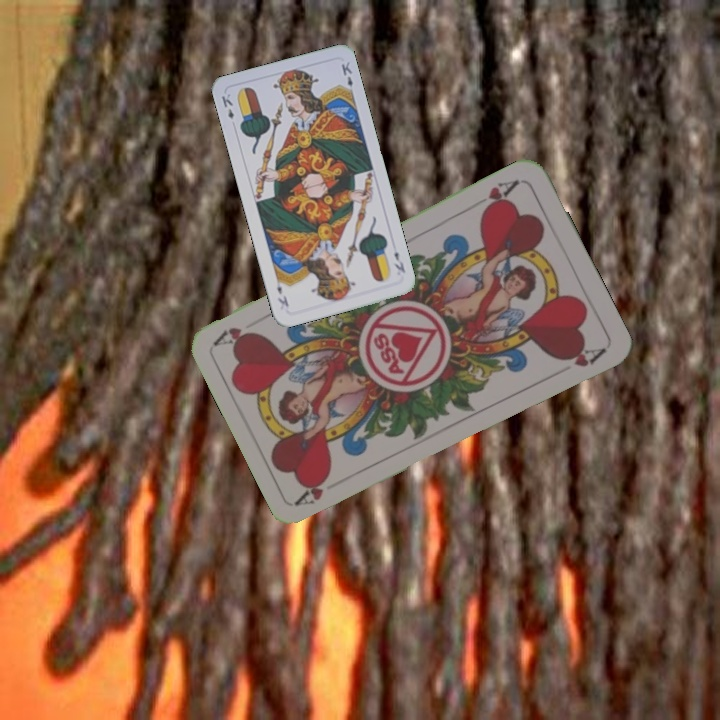EK: (217, 89, 237, 122), (390, 247, 408, 275)
HA: (476, 175, 522, 217), (293, 472, 333, 509)
